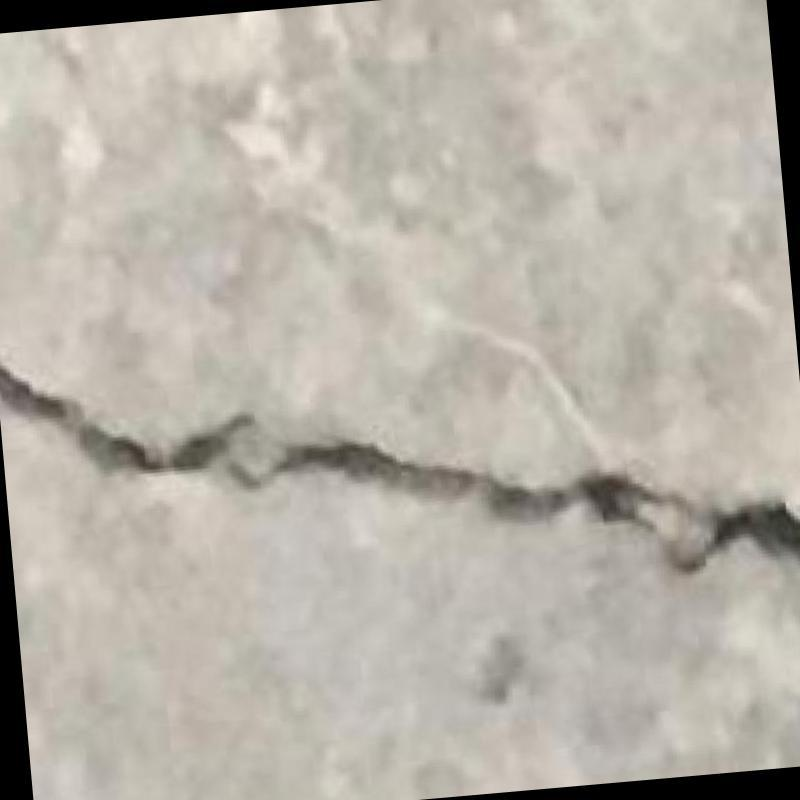pothole: (0, 363, 800, 573)
